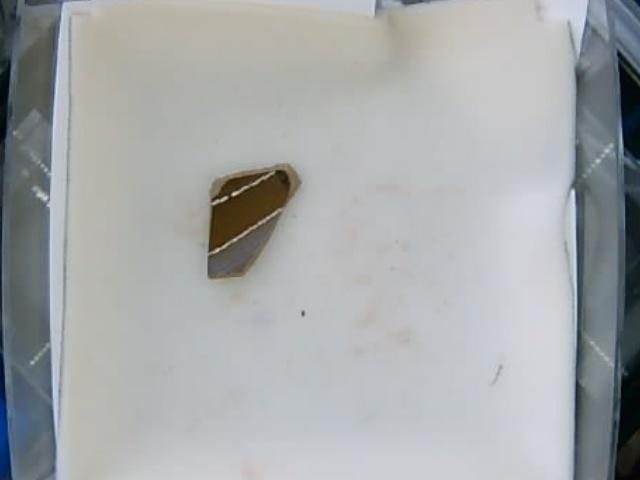China: (209, 161, 303, 280)
